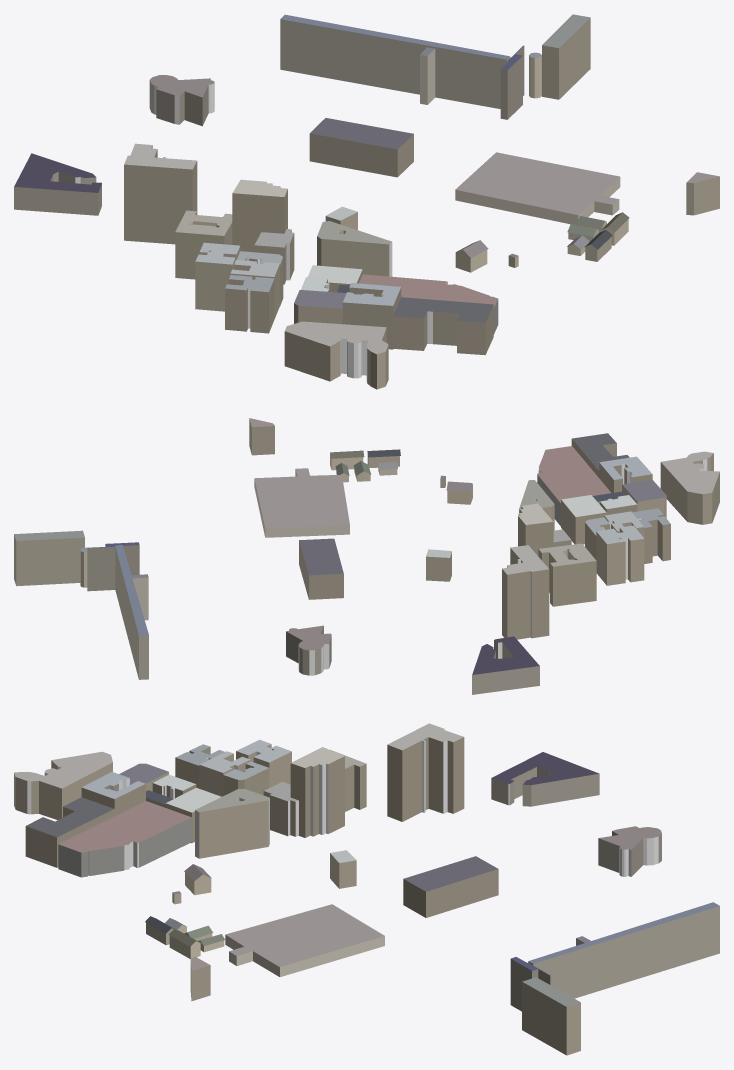
The picture shows the model from 3 angles, top to bottom: view 1: azimuth 30°, elevation 25°; view 2: azimuth 150°, elevation 25°; view 3: azimuth 270°, elevation 25°; orthographic projection. The views are drawn at different scales.
Visible parts, largest first — view 1: tuile; view 2: tuile; view 3: tuile.
Boxes of the visible parts, bbox=[...] form: tuile: bbox=[14, 14, 719, 389]; tuile: bbox=[14, 418, 719, 694]; tuile: bbox=[14, 723, 719, 1055].
Size of the model in its own units: 283 by 41.83 by 311.
